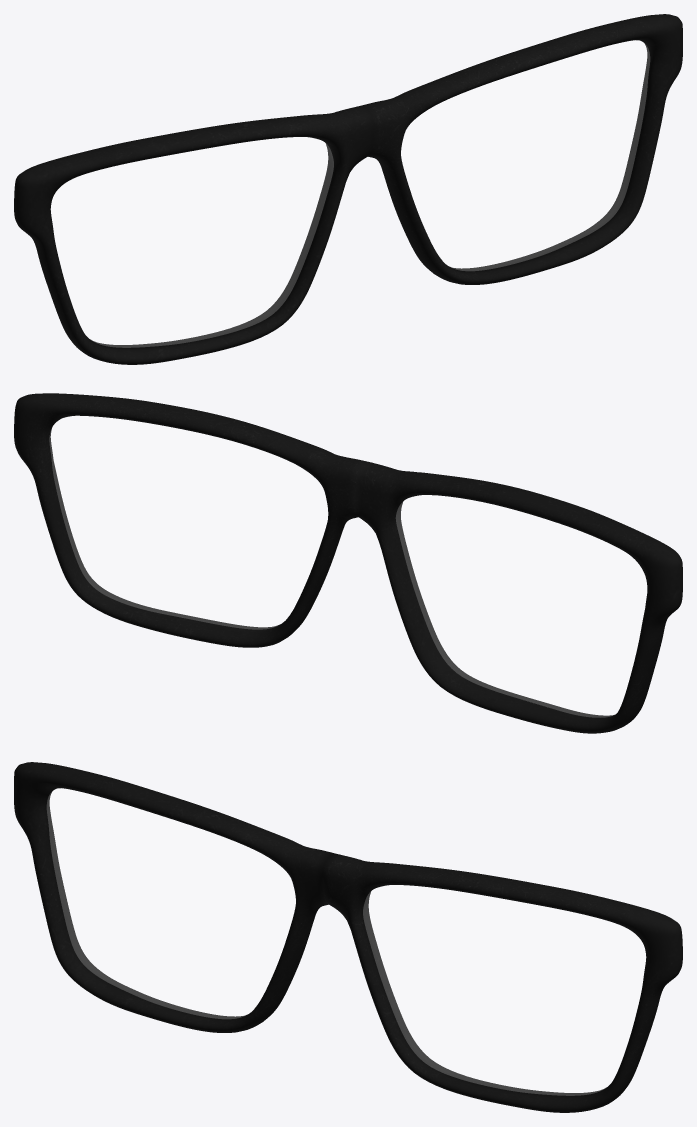
3 views of the same model, one above another, from view 1: azimuth 30°, elevation 25°; view 2: azimuth 150°, elevation 25°; view 3: azimuth 330°, elevation 25° (orthographic).
Visible parts, largest first — view 1: Base_0; view 2: Base_0; view 3: Base_0.
Boxes of the visible parts, <box> form: Base_0: <box>14,14,682,364</box>; Base_0: <box>14,393,682,733</box>; Base_0: <box>14,762,682,1112</box>.
Size of the model in its own units: 3.62 by 1.15 by 0.3158.
Materials: 2 (1 with a texture image).
